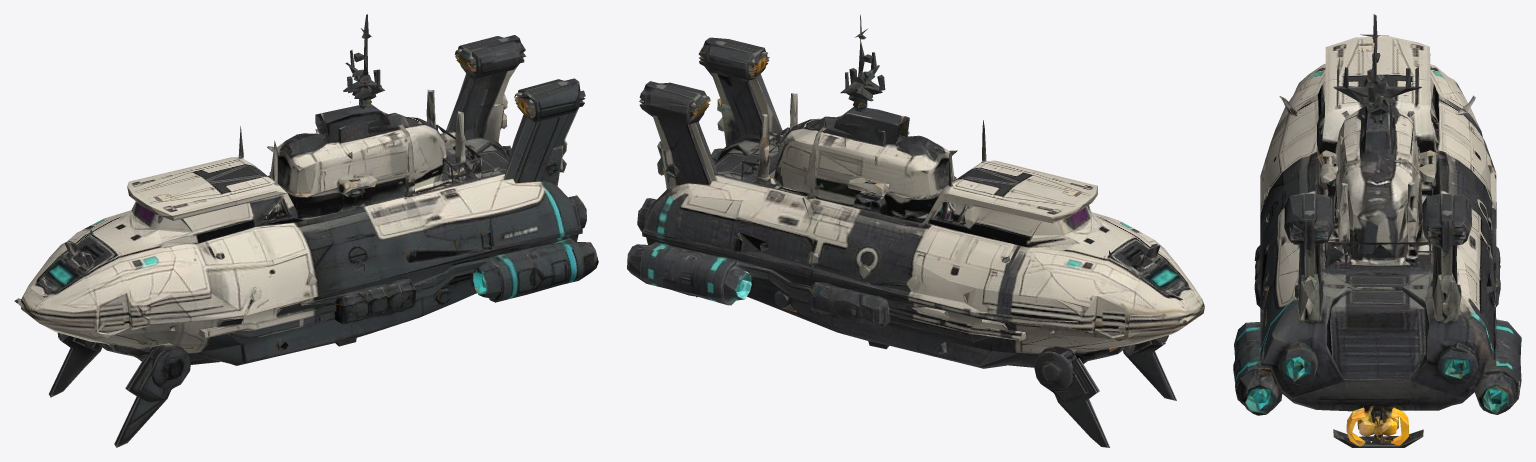
The model's file is vessel-mule.glb.
3 renders of one model, left to right at view 1: azimuth 30°, elevation 25°; view 2: azimuth 150°, elevation 25°; view 3: azimuth 270°, elevation 25°, orthographic. The views are drawn at different scales.
Bounding box in the file's own units: 1.9 × 1.18 × 0.7851.
Materials: 1 (1 with a texture image).
